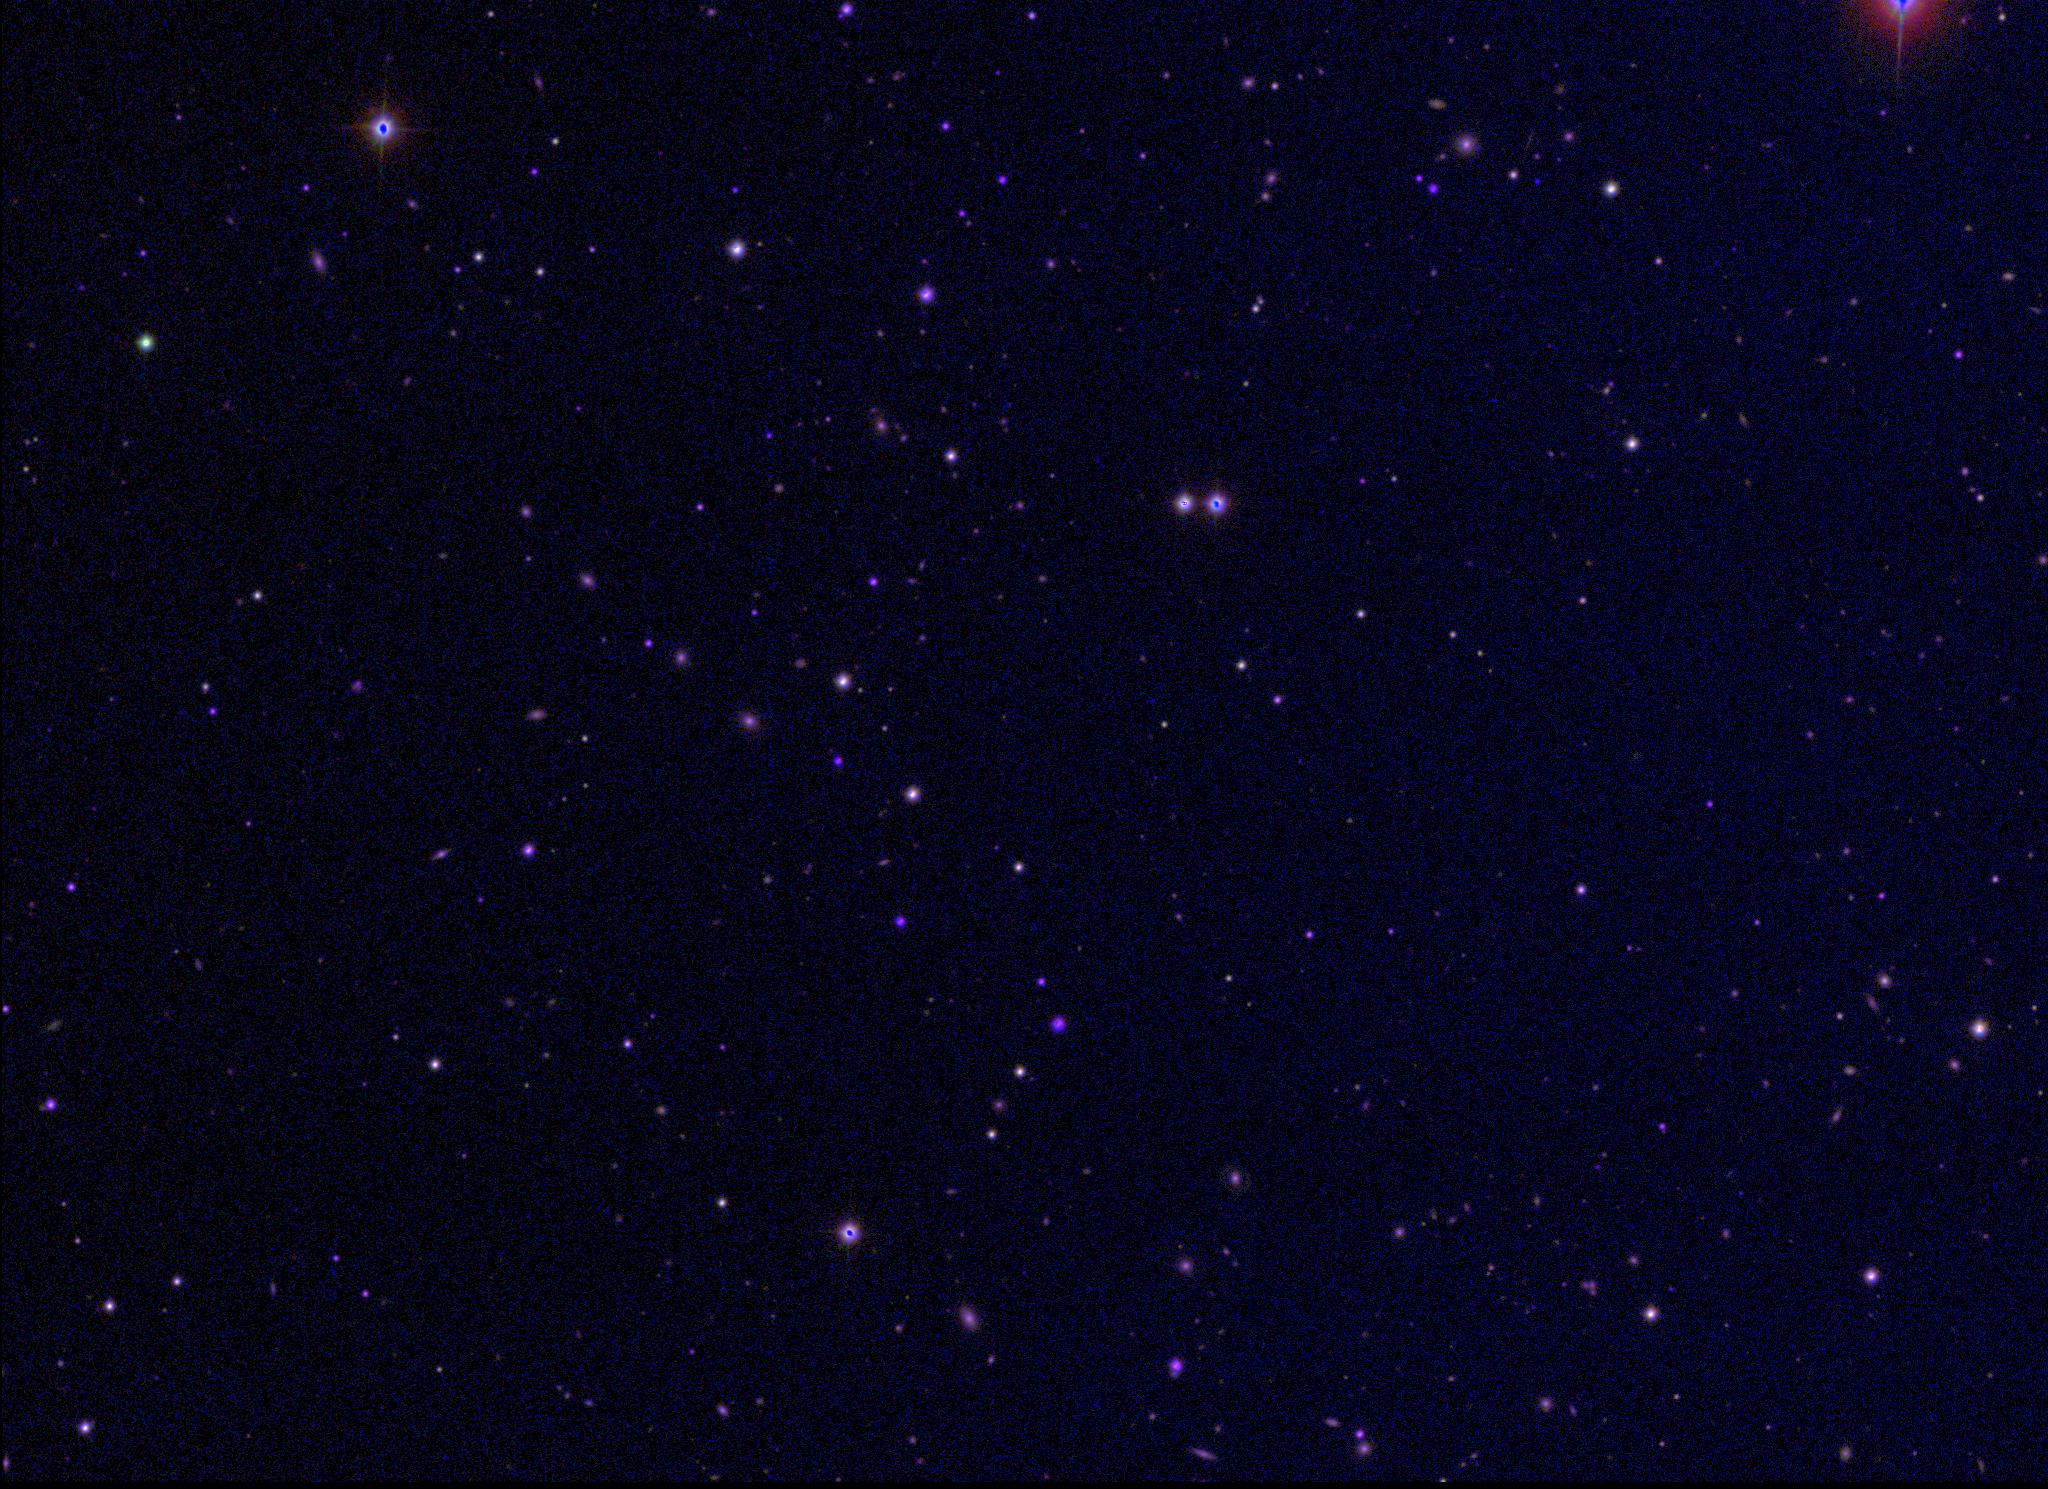L: (1530, 175, 1544, 189)
